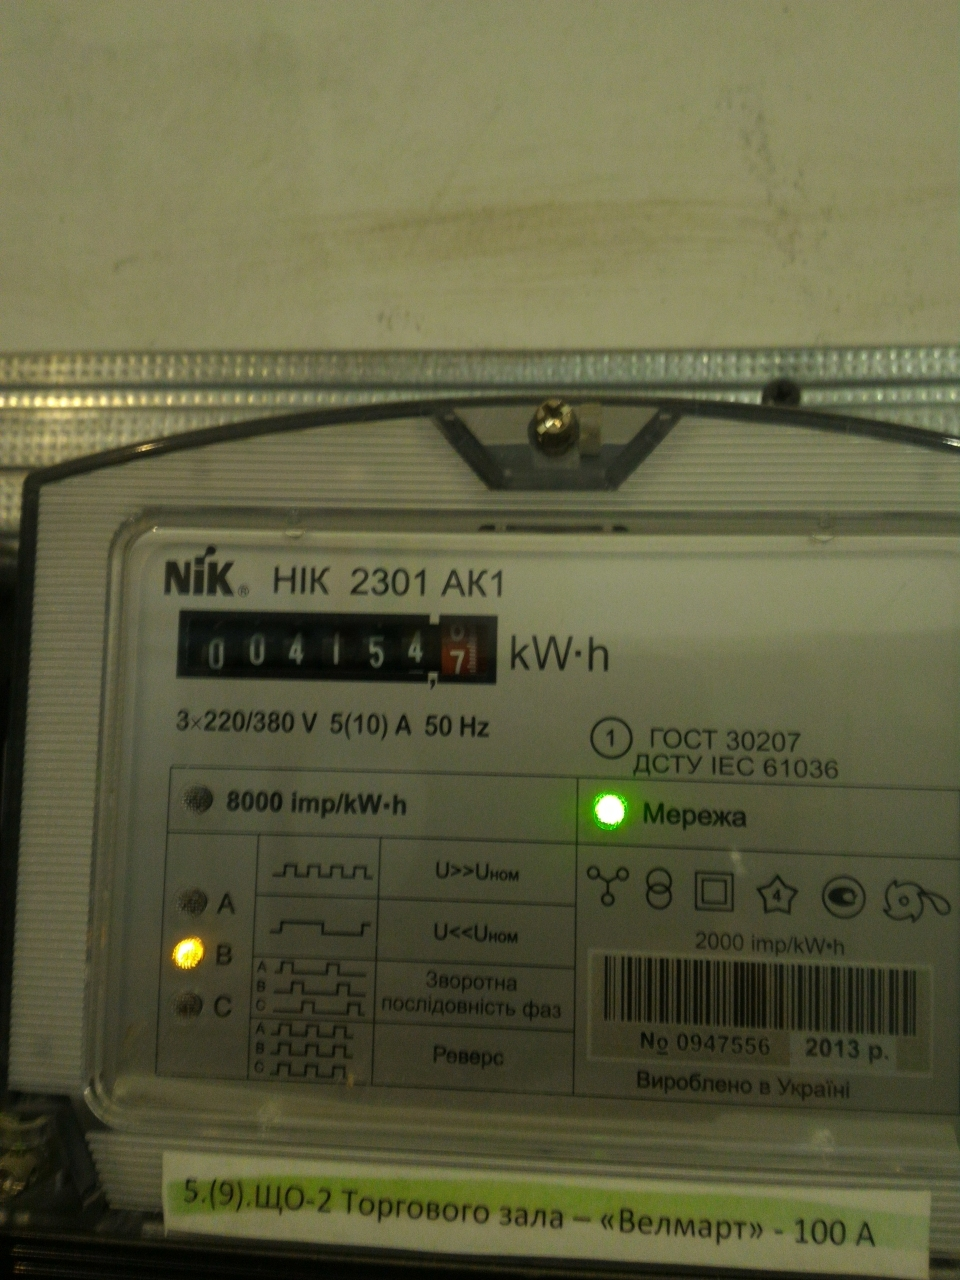0: (245, 630, 267, 667), (205, 635, 226, 671)
1: (327, 630, 345, 668)
4: (284, 629, 307, 668), (405, 627, 426, 666)
5: (365, 632, 386, 670)
7: (446, 645, 467, 676)
screen: (167, 596, 512, 699)
